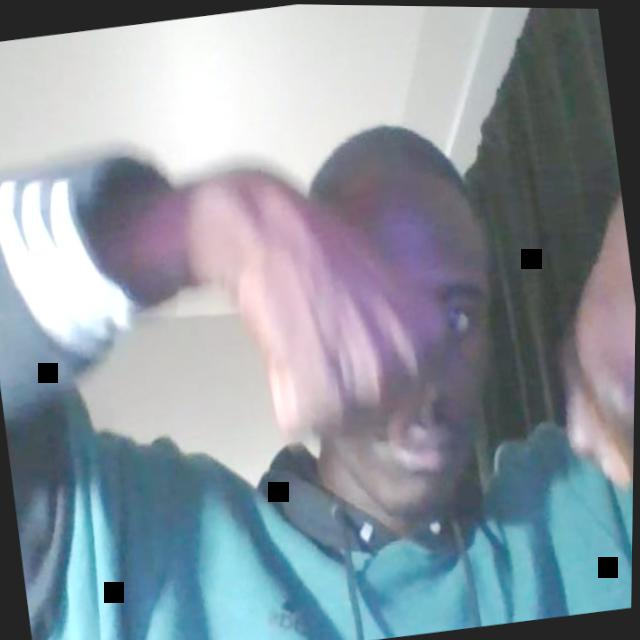NO-Mask: (301, 228, 518, 529)
